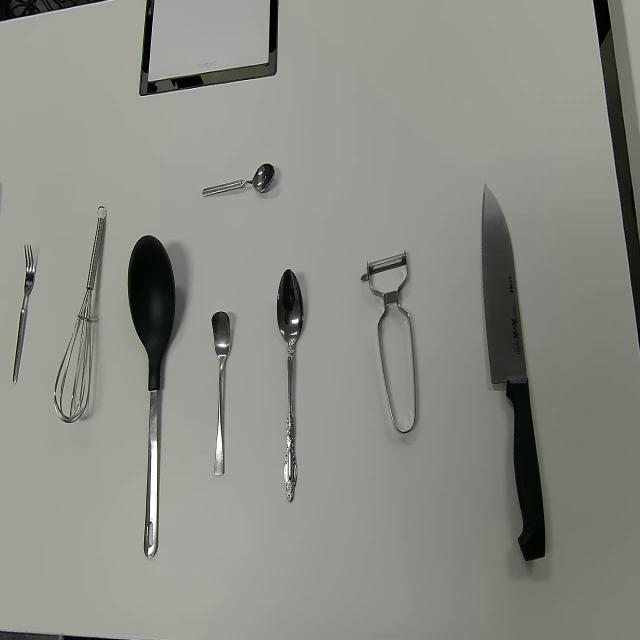Desert-Spoon: (276, 266, 305, 504)
Dinner-Fork: (12, 242, 36, 386)
Kitchen-Knife: (481, 181, 547, 562)
Peeler: (361, 249, 416, 434)
Serving-Spoon: (126, 234, 176, 561)
Tea-Spoon: (211, 309, 232, 477), (202, 161, 276, 198)
Whisk: (53, 204, 108, 424)
